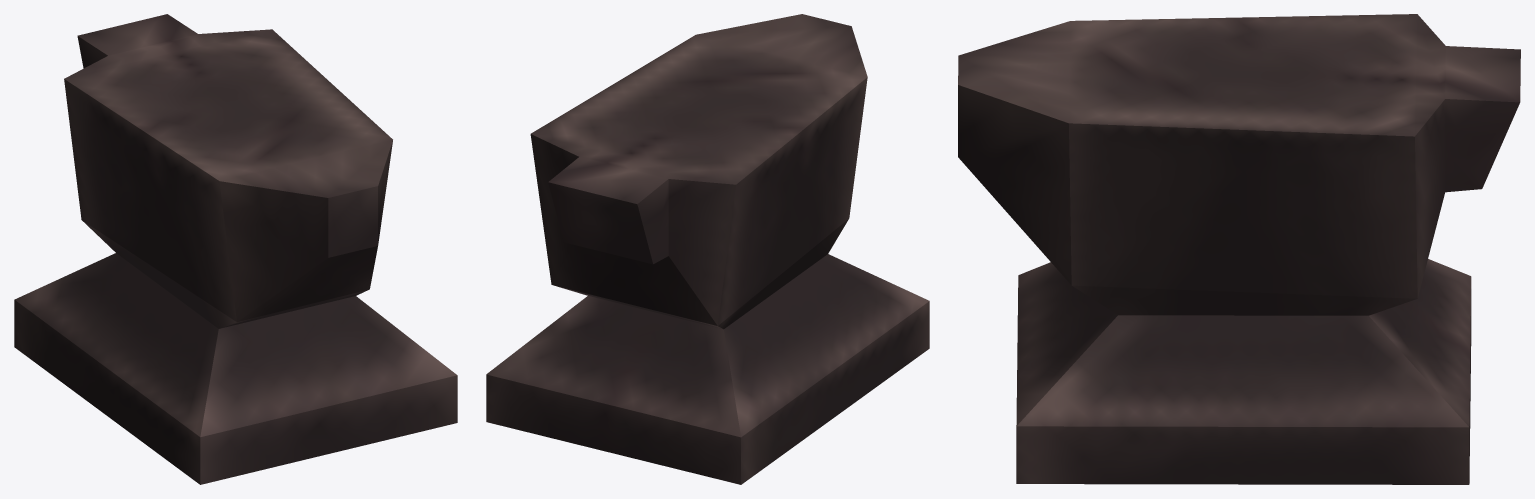
File: smith_1.fbx
The picture shows the model from 3 angles, left to right: view 1: azimuth 30°, elevation 25°; view 2: azimuth 150°, elevation 25°; view 3: azimuth 270°, elevation 25°; orthographic projection. The views are drawn at different scales.
Visible parts, largest first — view 1: smith_1; view 2: smith_1; view 3: smith_1.
Part boxes in pixels (x1,y1,x2,y2): smith_1: [14, 14, 457, 484]; smith_1: [486, 14, 929, 484]; smith_1: [958, 14, 1520, 484].
Size of the model in its own units: 0.7706 by 0.7986 by 1.21.
